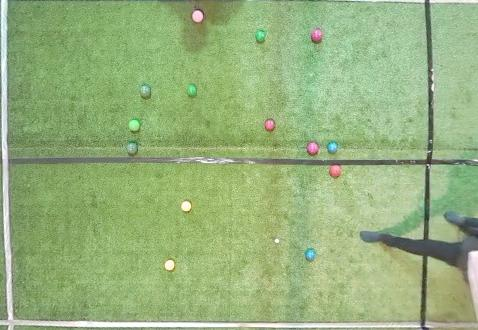blue: (326, 142, 338, 153), (305, 249, 316, 260)
green: (139, 85, 151, 98), (126, 142, 138, 154), (128, 120, 140, 132), (187, 84, 198, 97), (255, 30, 265, 42)
red: (307, 142, 319, 154), (329, 165, 341, 177), (192, 10, 203, 22), (311, 30, 322, 41), (264, 120, 275, 130)
vline: (423, 1, 477, 239), (0, 1, 18, 329), (419, 253, 478, 329)
white: (274, 239, 280, 244)
yellow: (181, 201, 192, 212), (164, 259, 175, 270)
